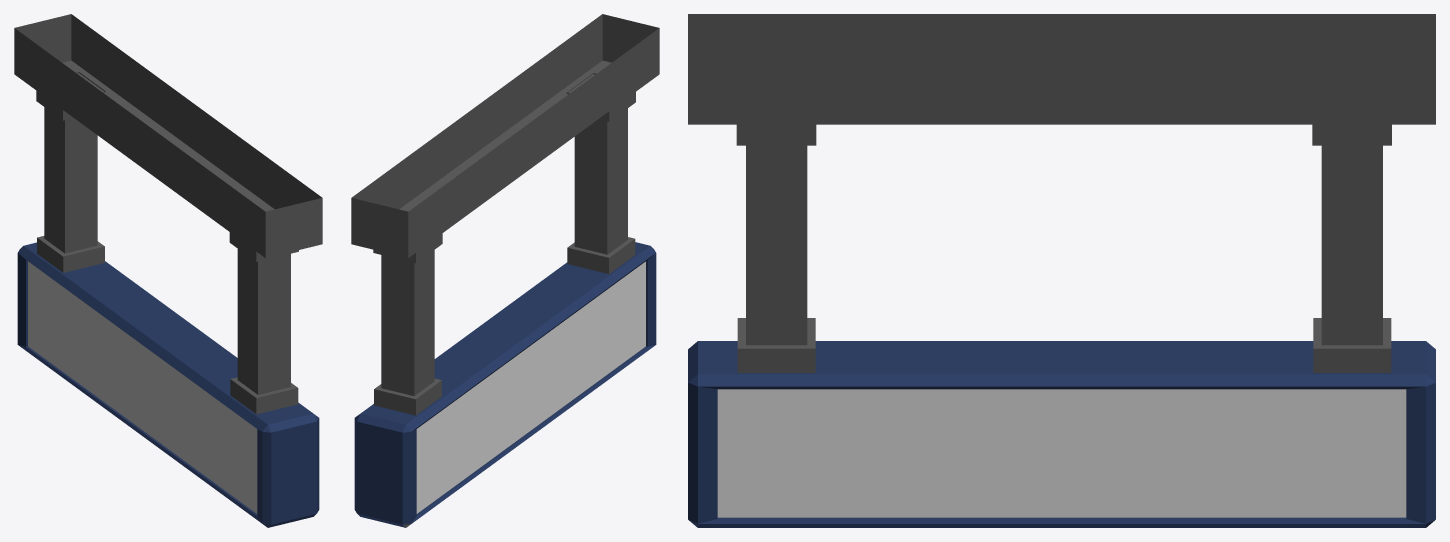
The model's file is Sing 1.fbx.
The picture shows the model from 3 angles, left to right: view 1: azimuth 30°, elevation 25°; view 2: azimuth 150°, elevation 25°; view 3: azimuth 270°, elevation 25°; orthographic projection. The views are drawn at different scales.
Parts seen in each view (by area): view 1: pCube63, pCube62; view 2: pCube63, pCube62; view 3: pCube62, pCube63.
Part boxes in pixels (x1,y1,x2,y2): pCube63: [14, 14, 322, 414]; pCube62: [17, 242, 319, 527]; pCube63: [351, 14, 659, 415]; pCube62: [354, 242, 656, 527]; pCube62: [688, 341, 1435, 527]; pCube63: [688, 14, 1435, 372].
Size of the model in its own units: 1 by 5.36 by 7.63.
